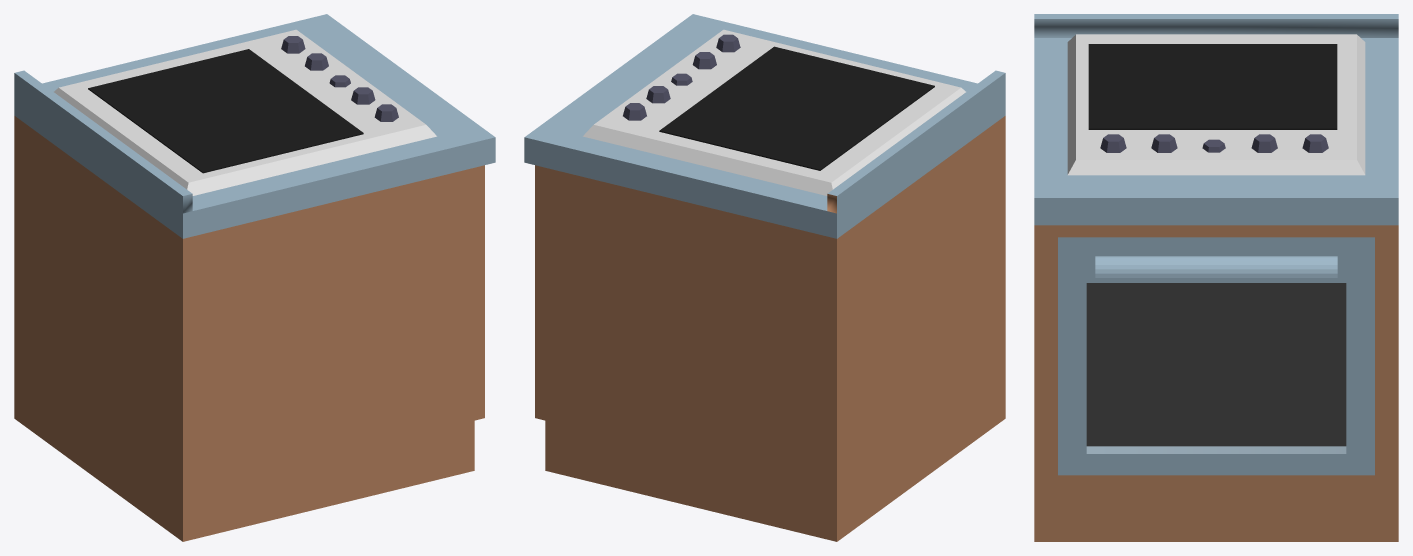
The model's file is kitchenStove.fbx.
3 renders of one model, left to right at view 1: azimuth 30°, elevation 25°; view 2: azimuth 150°, elevation 25°; view 3: azimuth 270°, elevation 25°, orthographic. The views are drawn at different scales.
Parts seen in each view (by area): view 1: Cube, Cube.003, Cube.001; view 2: Cube, Cube.003, Cube.001; view 3: Cube, Cube.003, Cube.001, Cube.002.
Boxes of the visible parts, x1,y1,x2,y2 form: Cube: (14,14,495,541); Cube.003: (88,49,363,173); Cube.001: (54,29,436,195); Cube: (524,14,1005,541); Cube.003: (659,46,934,170); Cube.001: (583,29,965,195); Cube: (1034,14,1398,541); Cube.003: (1088,44,1337,129); Cube.001: (1067,34,1365,175); Cube.002: (1095,256,1337,278).
Size of the model in its own units: 719 by 762 by 668.
